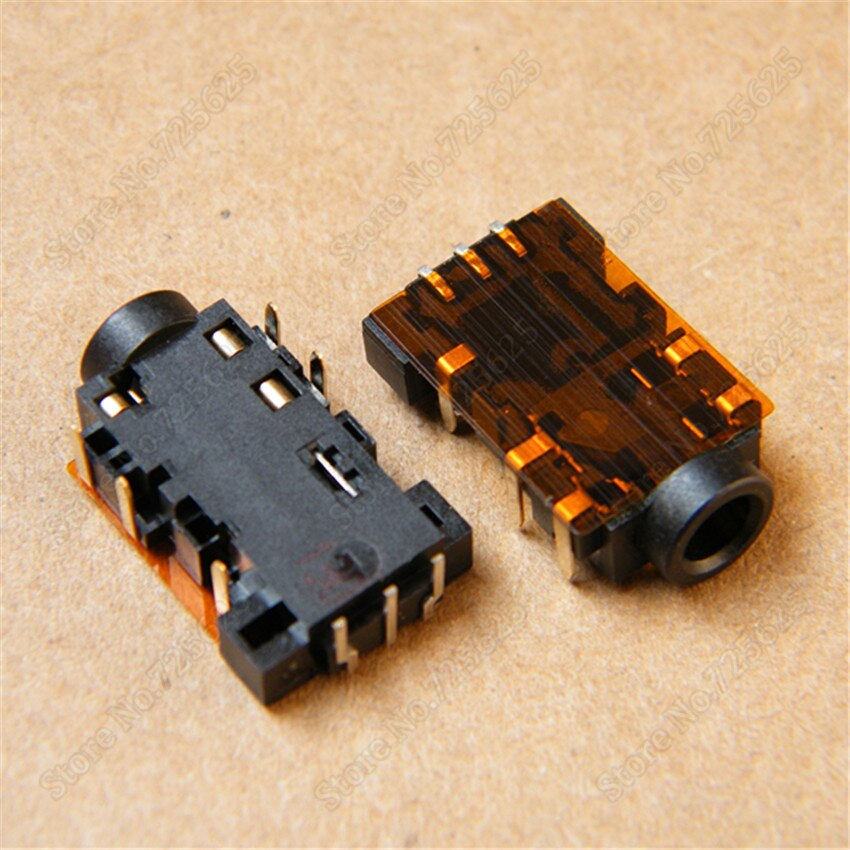aud: (54, 279, 480, 708), (348, 191, 787, 596)
